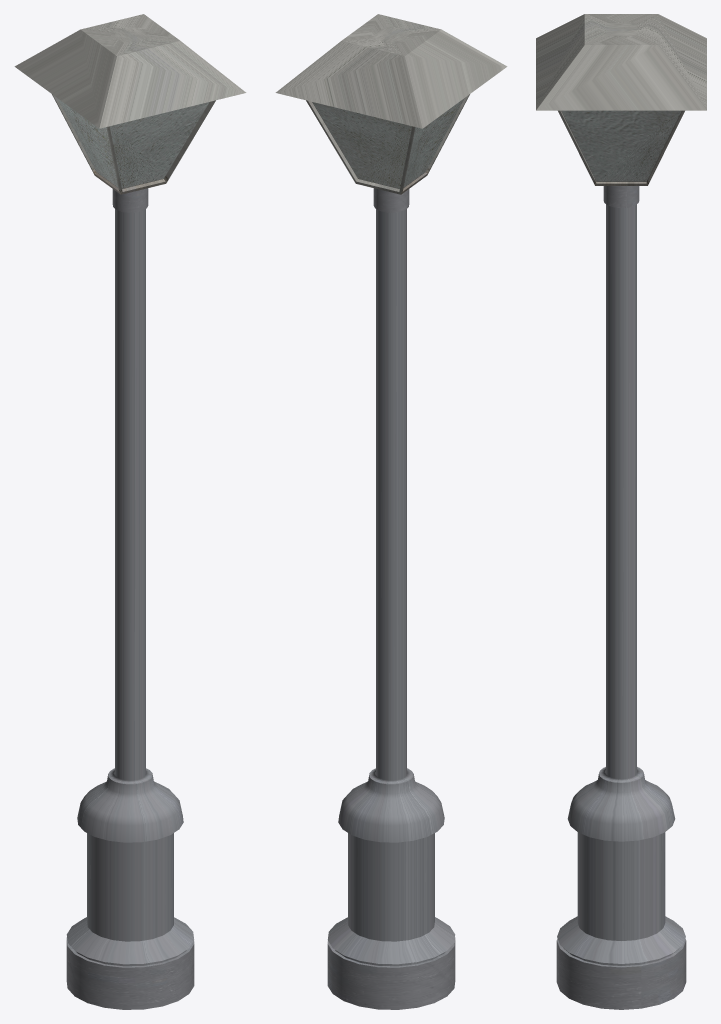
Rendered from streetlamp.obj.
The picture shows the model from 3 angles, left to right: view 1: azimuth 30°, elevation 25°; view 2: azimuth 150°, elevation 25°; view 3: azimuth 270°, elevation 25°; orthographic projection.
Visible parts, largest first — view 1: streetlamp; view 2: streetlamp; view 3: streetlamp.
Boxes of the visible parts, x1,y1,x2,y2 form: streetlamp: (14, 14, 246, 1009); streetlamp: (275, 14, 507, 1009); streetlamp: (536, 14, 706, 1009).
Size of the model in its own units: 1.68 by 10.37 by 1.68.
Materials: 4 (4 with a texture image).
